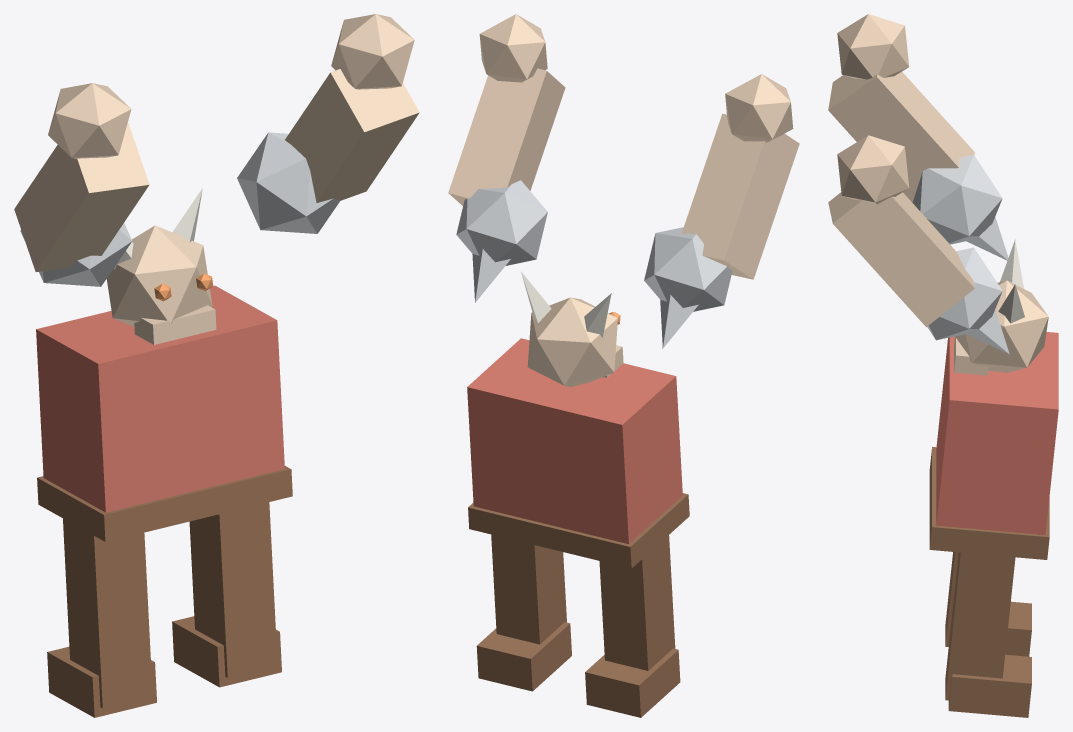
Rendered from npcpose_brute_attack_03.glb.
3 views of the same model, side by side, from view 1: azimuth 30°, elevation 25°; view 2: azimuth 150°, elevation 25°; view 3: azimuth 270°, elevation 25° (orthographic). The views are drawn at different scales.
Visible parts, largest first — view 1: npcpose; view 2: npcpose; view 3: npcpose.
Boxes of the visible parts, x1,y1,x2,y2 form: npcpose: (14, 14, 419, 717); npcpose: (448, 14, 799, 717); npcpose: (828, 14, 1058, 717).
Size of the model in its own units: 1.43 by 2.65 by 0.9183.
